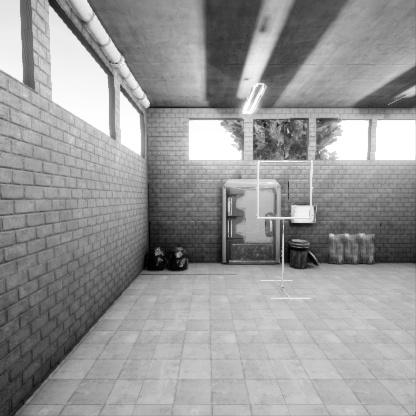gate: (257, 199, 316, 257)
